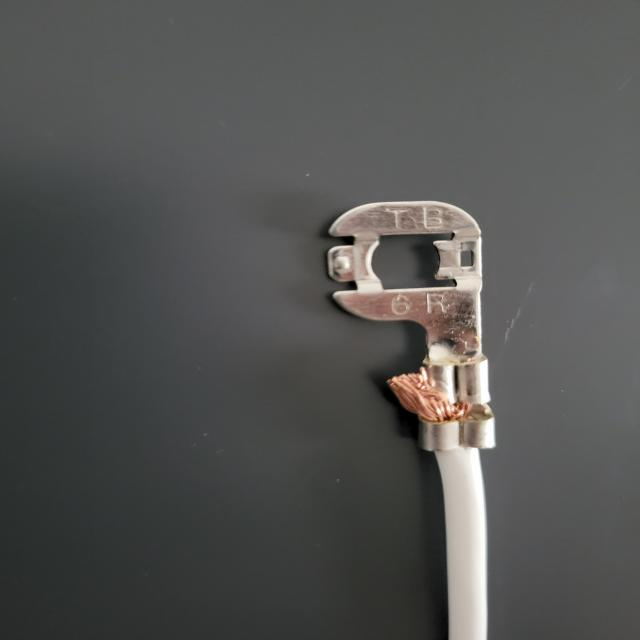defect: (335, 323, 595, 480)
